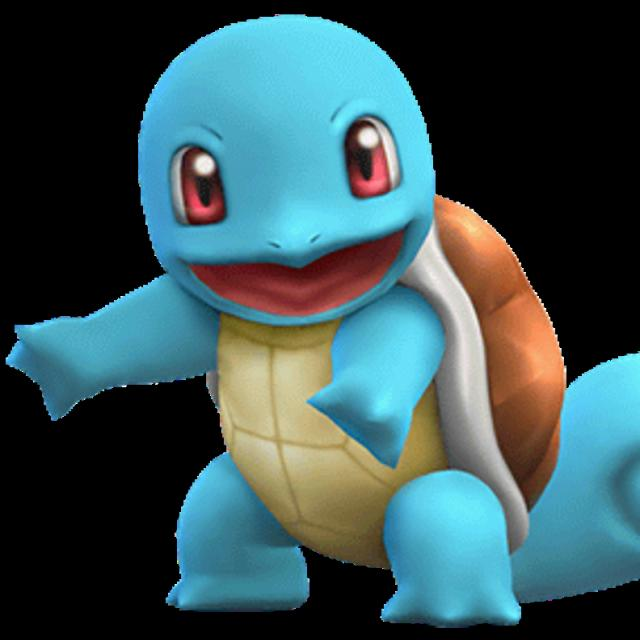Squirtle: (138, 19, 560, 616)
